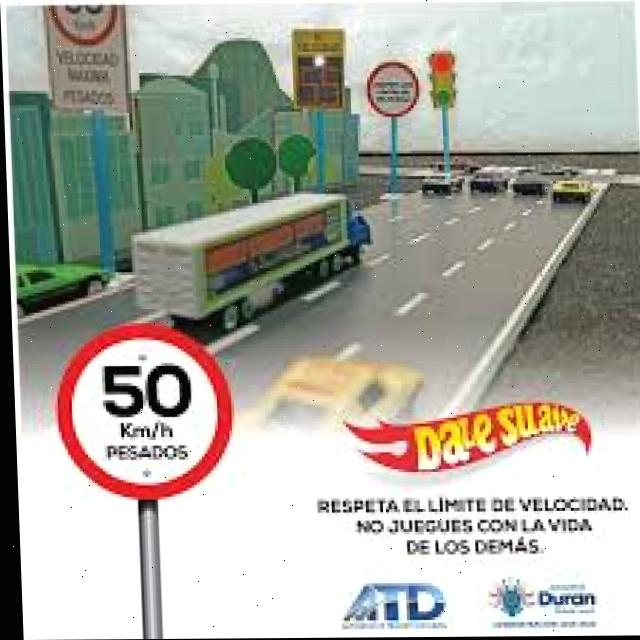Speed limit 50: (47, 318, 235, 501)
